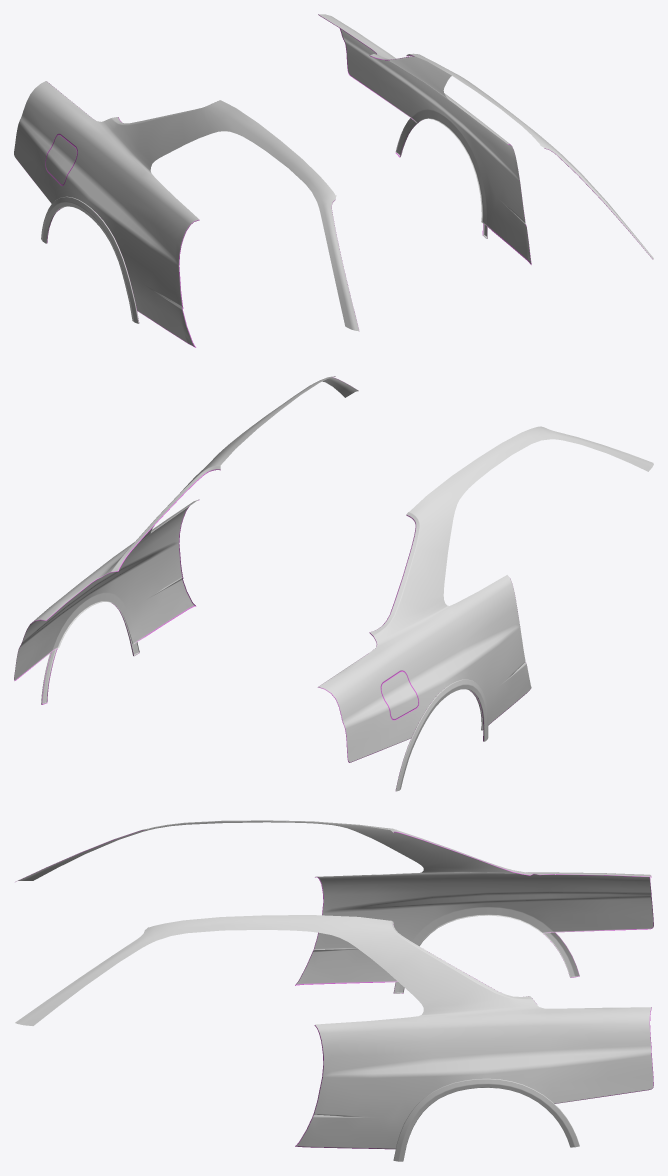
Rendered from Car_Nissan_SkylineGTRVspecR34_1999_FendersR_SetD_AltB.fbx.
The picture shows the model from 3 angles, top to bottom: view 1: azimuth 30°, elevation 25°; view 2: azimuth 150°, elevation 25°; view 3: azimuth 270°, elevation 25°; orthographic projection.
Visible parts, largest first — view 1: FendersR 6; view 2: FendersR 6; view 3: FendersR 6.
Part boxes in pixels (x1=…): FendersR 6: x1=14, y1=14, x2=653, y2=347; FendersR 6: x1=14, y1=376, x2=653, y2=791; FendersR 6: x1=15, y1=820, x2=653, y2=1161.
Size of the model in its own units: 1.8 by 1.01 by 2.79.
